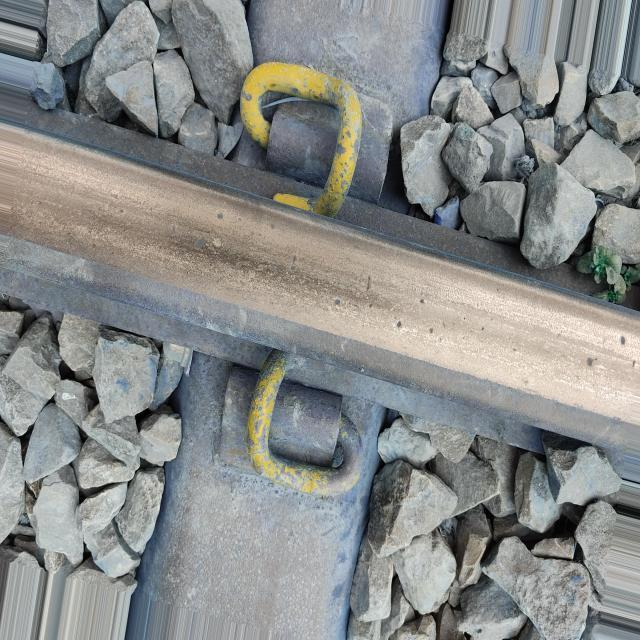Good Joint: (229, 53, 403, 238), (206, 338, 361, 505)
